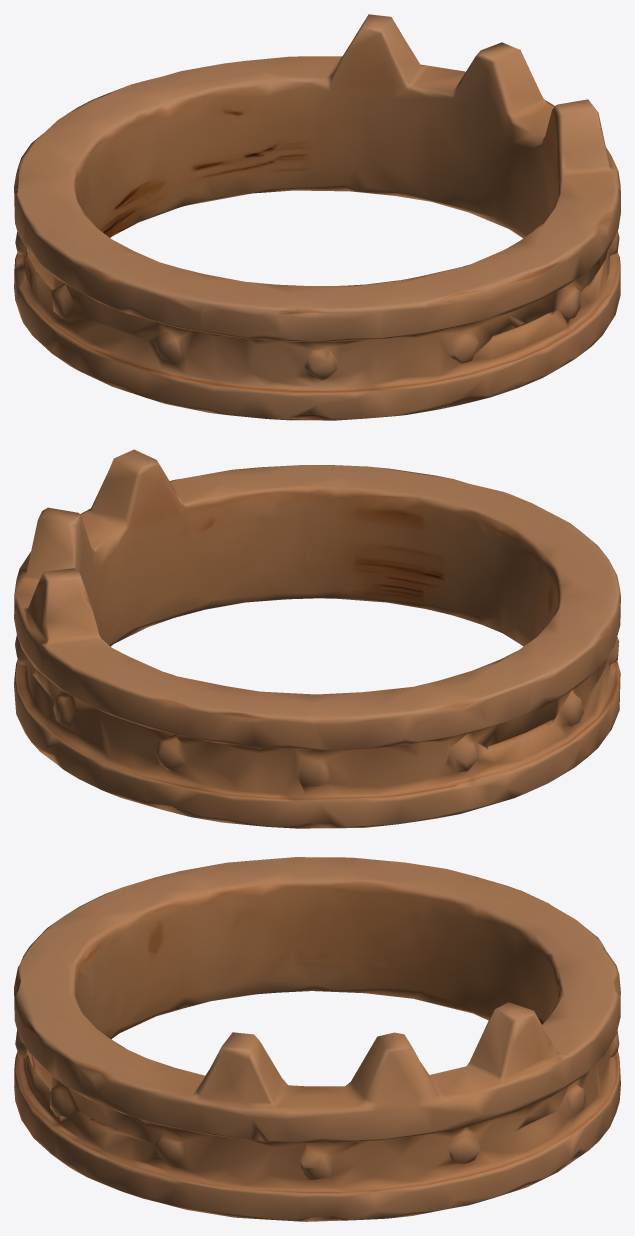
Rendered from Crown_T1.fbx.
The picture shows the model from 3 angles, top to bottom: view 1: azimuth 30°, elevation 25°; view 2: azimuth 150°, elevation 25°; view 3: azimuth 270°, elevation 25°; orthographic projection.
Parts seen in each view (by area): view 1: Crown_T1; view 2: Crown_T1; view 3: Crown_T1.
Part boxes in pixels (x1,y1,x2,y2): Crown_T1: [14, 14, 620, 420]; Crown_T1: [14, 449, 620, 828]; Crown_T1: [14, 857, 620, 1221].
Bounding box in the file's own units: 100 × 29.66 × 99.88.
1 material, 1 textured.
